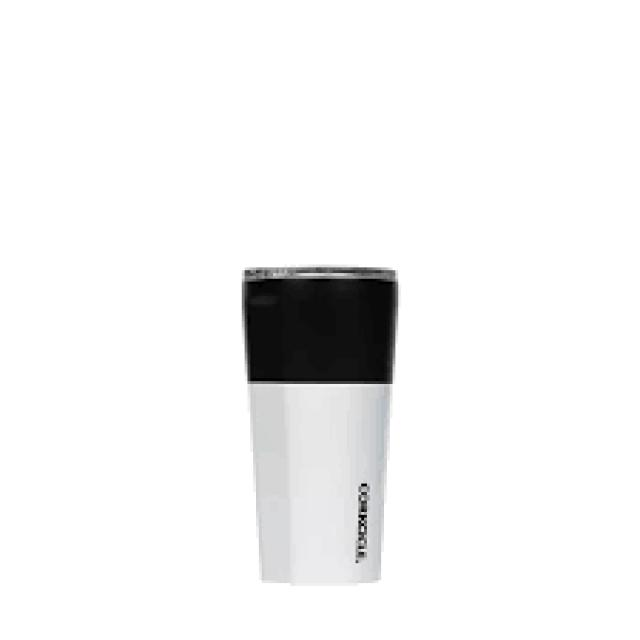bottle: (206, 259, 440, 613)
